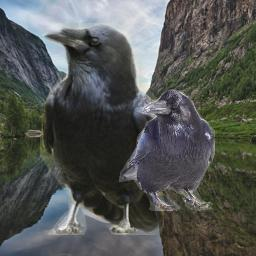Crow: (40, 23, 164, 235), (119, 88, 215, 211)
